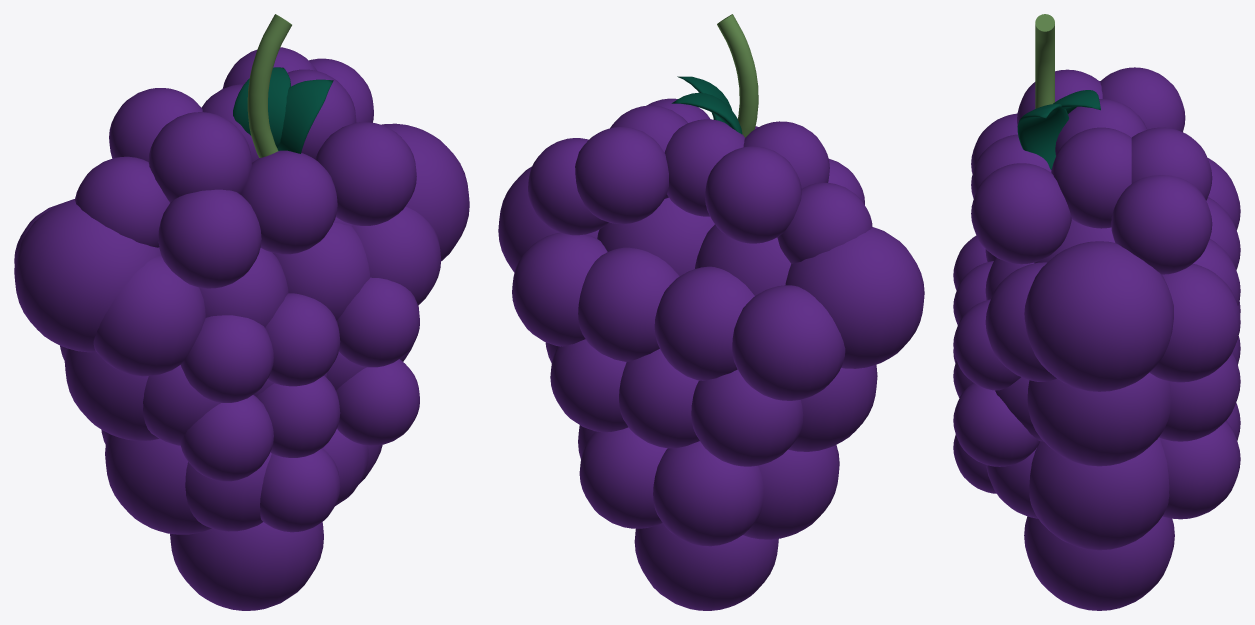
The model's file is Grapes.fbx.
3 renders of one model, left to right at view 1: azimuth 30°, elevation 25°; view 2: azimuth 150°, elevation 25°; view 3: azimuth 270°, elevation 25°, orthographic. The views are drawn at different scales.
Parts seen in each view (by area): view 1: pSphere55; view 2: pSphere55; view 3: pSphere55.
Part boxes in pixels (box(x1,y1,x2,y2)): pSphere55: box(14, 14, 469, 610); pSphere55: box(498, 14, 924, 610); pSphere55: box(953, 14, 1240, 610).
Size of the model in its own units: 1.63 by 2.17 by 0.9578.
